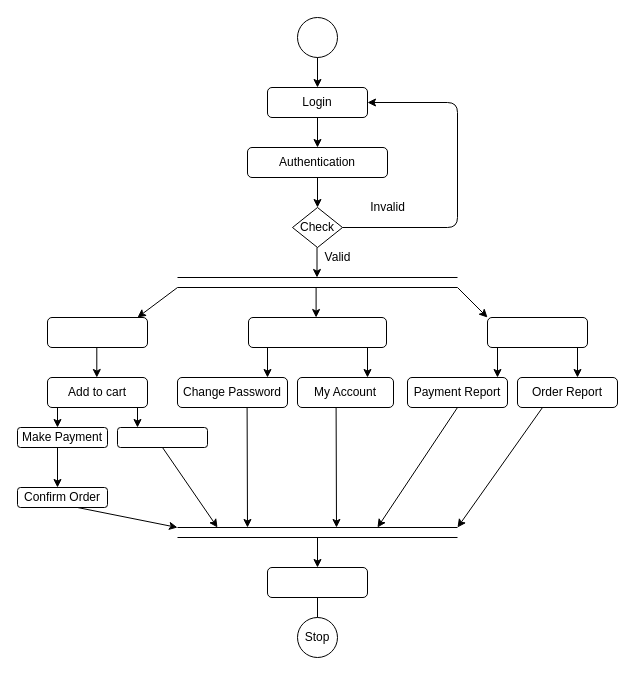
This 635x675 diagram has some shape labels left out. Here are the shapes that lost their labels. From the top down, the box of each, then its label:
(296, 16, 338, 58): Start
(46, 316, 148, 348): Search Product
(248, 316, 386, 348): Edit Profile
(486, 316, 588, 348): View Reports
(116, 426, 208, 448): Cancel Order
(266, 566, 368, 598): Logout
